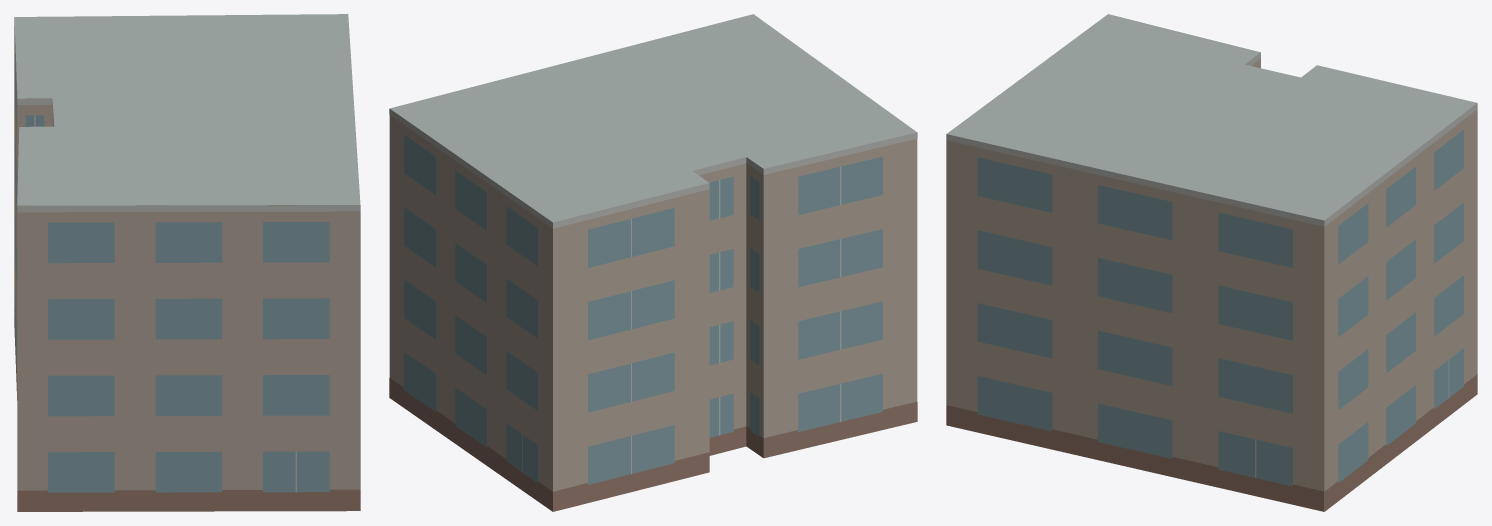
Rendered from survey-upis-33043350.glb.
The picture shows the model from 3 angles, left to right: view 1: azimuth 30°, elevation 25°; view 2: azimuth 150°, elevation 25°; view 3: azimuth 270°, elevation 25°; orthographic projection. The views are drawn at different scales.
Parts seen in each view (by area): view 1: survey-upis-33043350.tmp; view 2: survey-upis-33043350.tmp; view 3: survey-upis-33043350.tmp.
Boxes of the visible parts, x1,y1,x2,y2 form: survey-upis-33043350.tmp: (14,14,360,511); survey-upis-33043350.tmp: (389,14,917,511); survey-upis-33043350.tmp: (946,14,1477,511).
Bounding box in the file's own units: 17.42 × 11.45 × 18.93.
